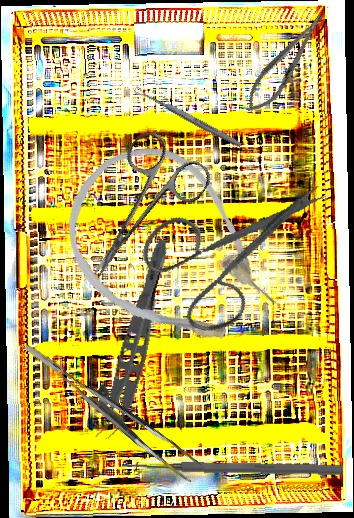Cannula: (36, 119, 305, 386)
Iris Scissors: (125, 138, 330, 354), (58, 125, 216, 299)
Needle Holder: (237, 5, 335, 121)
Pusher: (121, 458, 344, 477)
Surgical Spoon: (133, 85, 243, 149)
Tissue Forceps: (24, 317, 205, 499), (92, 234, 173, 444)
